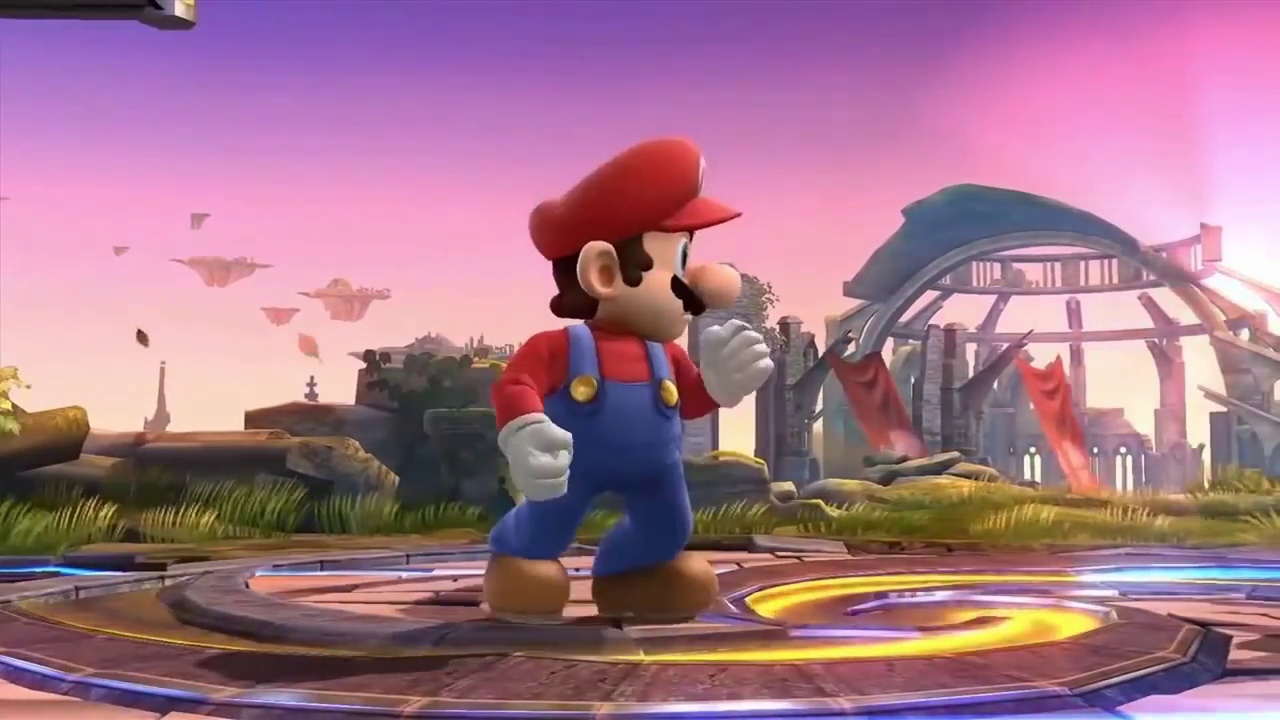Mario: (487, 136, 775, 619)
